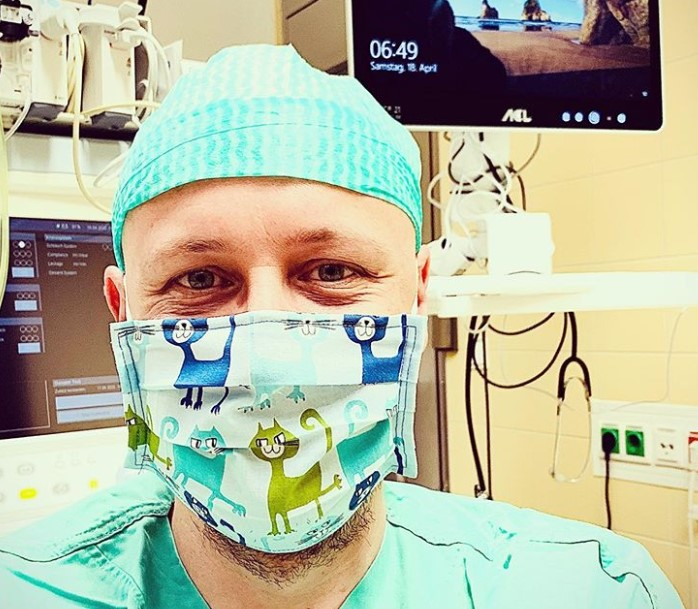face_with_mask: (86, 29, 426, 556)
